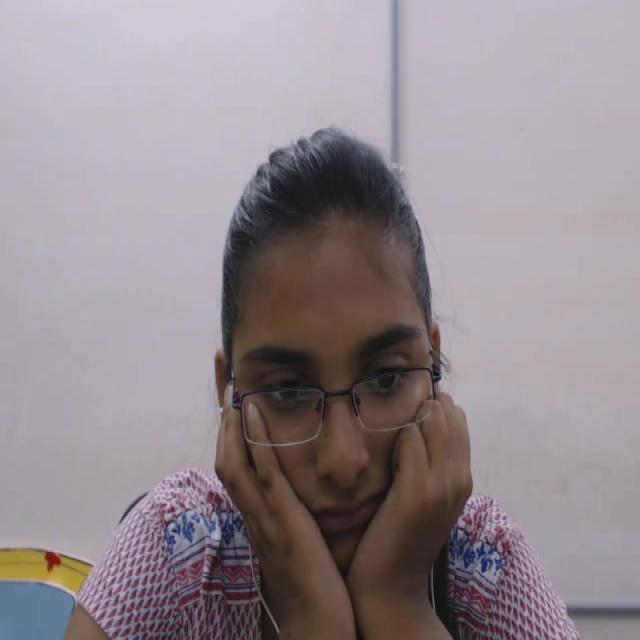Bored: (199, 102, 477, 571)
